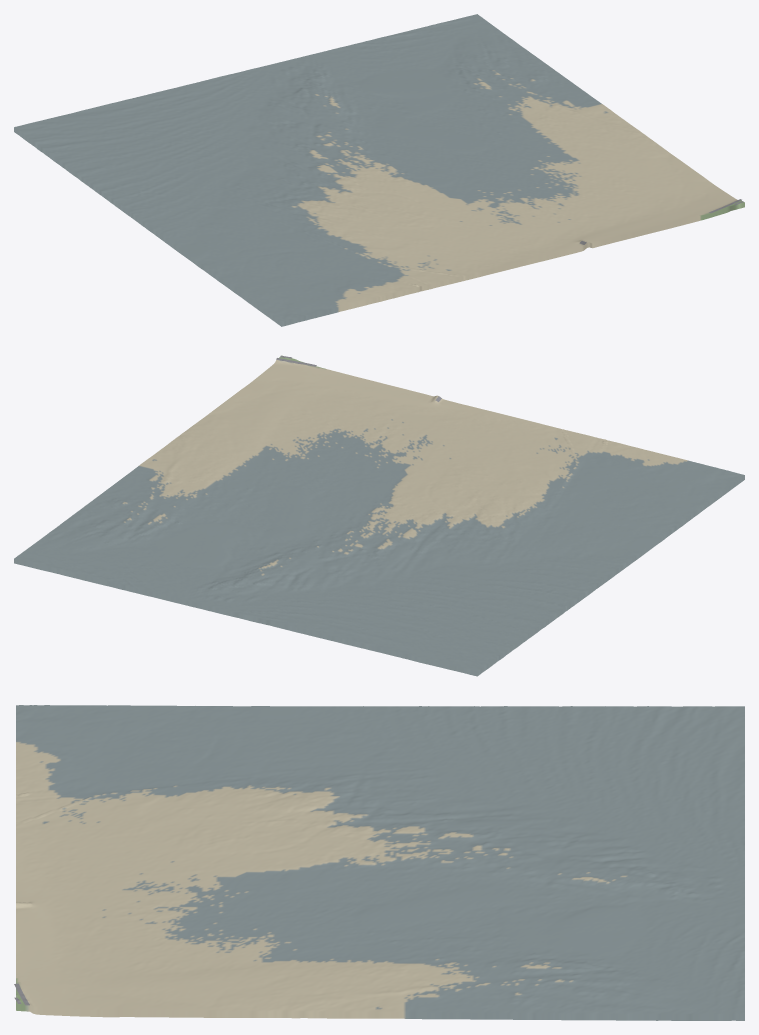
The picture shows the model from 3 angles, top to bottom: view 1: azimuth 30°, elevation 25°; view 2: azimuth 150°, elevation 25°; view 3: azimuth 270°, elevation 25°; orthographic projection. The views are drawn at different scales.
Visible parts, largest first — view 1: prim0; view 2: prim0; view 3: prim0.
Boxes of the visible parts, x1,y1,x2,y2 form: prim0: [14, 14, 744, 326]; prim0: [14, 355, 744, 676]; prim0: [16, 705, 744, 1020].
Size of the model in its own units: 513 by 13.35 by 513.
